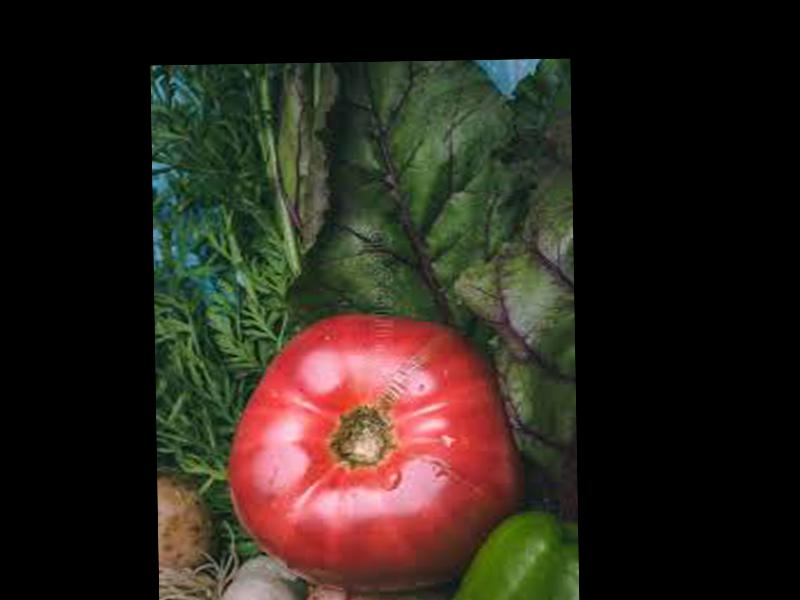Tomato: (226, 312, 526, 598)
